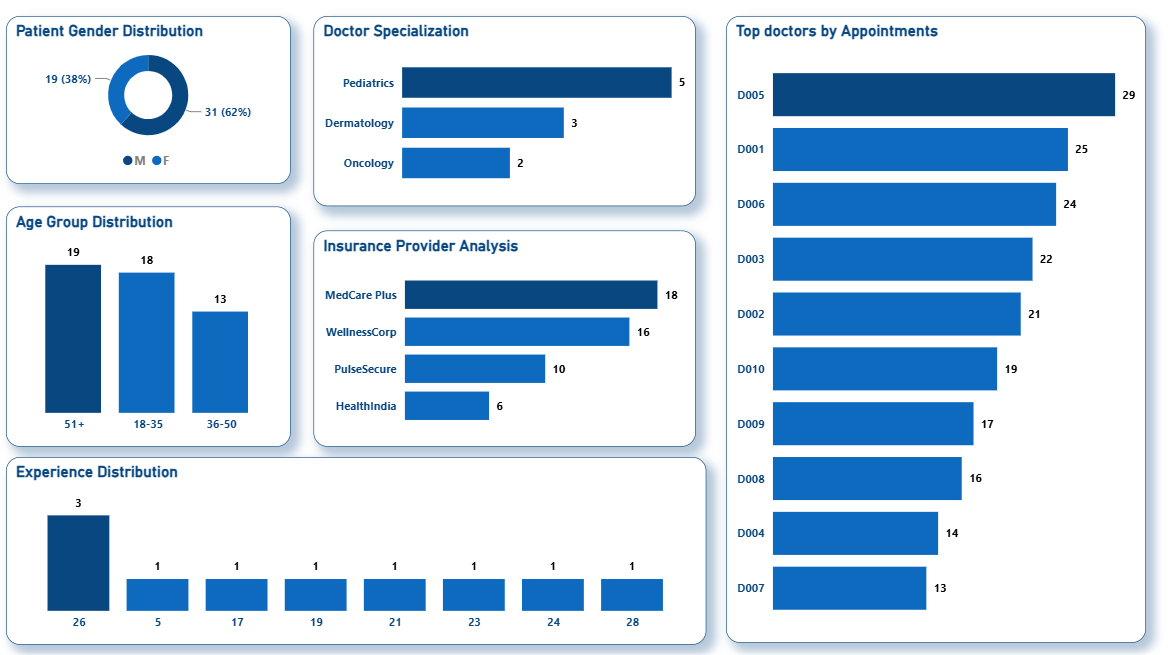

The page's visual inventory and layout, read from the dashboard file:
{"tool":"powerbi","page":{"name":"PATIENT & DOCTOR ANALYTICS","canvas":[1280,720],"ordinal":1},"visuals":[{"type":"donutChart","title":"Patient Gender Distribution","fields":{"Category":["patients_cleaned.gender"],"Y":["patients_cleaned.Total Patients"]},"box":[9.7,25.9,307.7,181.4],"z":0},{"type":"clusteredColumnChart","title":"Age Group Distribution","fields":{"Category":["patients_cleaned.age_group"],"Y":["patients_cleaned.Total Patients"]},"box":[9.7,231.5,307.7,259.1],"z":1000},{"type":"clusteredBarChart","title":"Insurance Provider Analysis","fields":{"Category":["patients_cleaned.insurance_provider"],"Y":["patients_cleaned.Total Patients"]},"box":[341.7,257.5,412.9,233.2],"z":2000},{"type":"clusteredBarChart","title":"Doctor Specialization","fields":{"Category":["doctors_cleaned.specialization"],"Y":["doctors_cleaned.Total Doctors"]},"box":[341.7,25.9,412.9,205.6],"z":4000},{"type":"clusteredBarChart","title":"Top doctors by Appointments","fields":{"Y":["appointments_cleaned.Total Appointments"],"Category":["doctors_cleaned.doctor_id"]},"box":[786.9,25.9,453.4,676.8],"z":5000},{"type":"clusteredColumnChart","title":"Experience Distribution","fields":{"Category":["doctors_cleaned.years_experience"],"Y":["doctors_cleaned.Total Doctors"]},"box":[9.7,502,756.2,202.4],"z":6000}]}

Visuals, with their boxes in screenshot pixels (x1, y1, x2, y2), scaled from the page's 1280x720 canvas onto the 1168x655 screenshot:
"Patient Gender Distribution" donutChart: 9,24,290,189
"Age Group Distribution" clusteredColumnChart: 9,211,290,446
"Insurance Provider Analysis" clusteredBarChart: 312,234,689,446
"Doctor Specialization" clusteredBarChart: 312,24,689,211
"Top doctors by Appointments" clusteredBarChart: 718,24,1132,639
"Experience Distribution" clusteredColumnChart: 9,457,699,641
